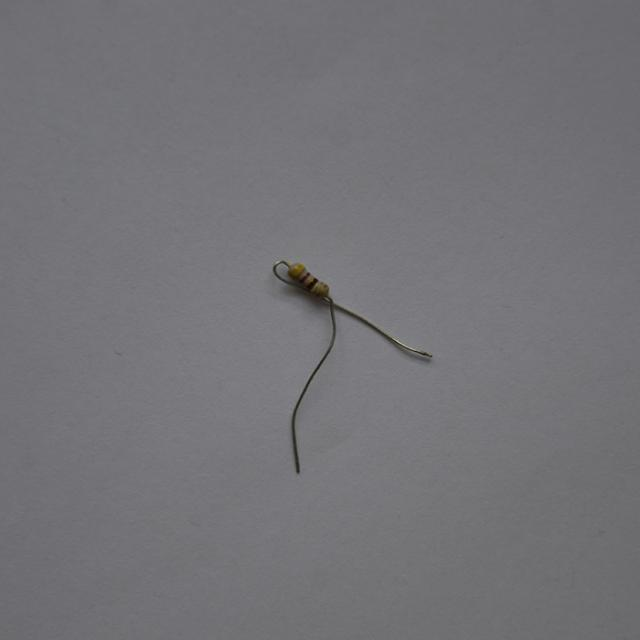brown: (307, 278, 319, 289)
gold: (314, 284, 327, 297)
resistor: (282, 256, 337, 307)
violet: (300, 272, 311, 283)
yellow: (290, 263, 304, 277)
